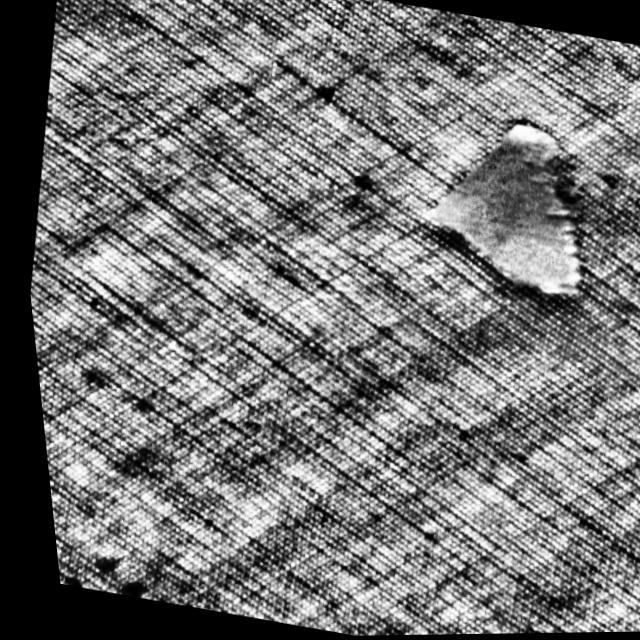Stitch: (402, 102, 612, 310)
